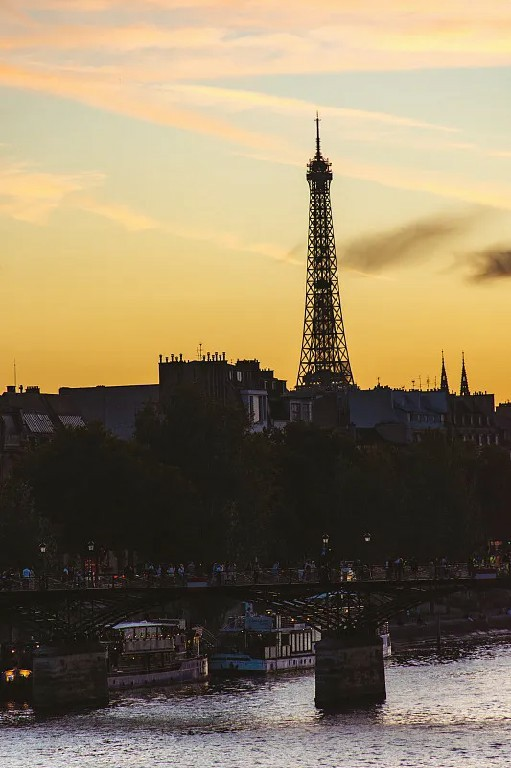Eiffel: (296, 112, 357, 390)
